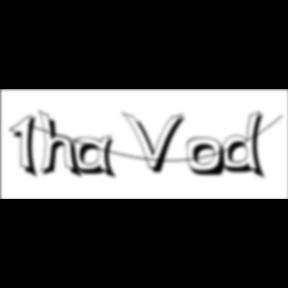1: (10, 114, 44, 182)
V: (122, 110, 189, 176)
a: (73, 135, 121, 182)
d: (221, 110, 271, 182)
h: (39, 108, 86, 182)
o: (187, 137, 229, 179)
